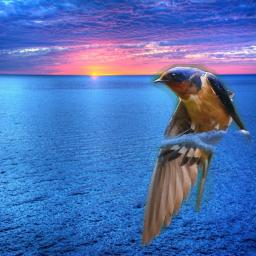Swallow: (138, 64, 253, 247)
